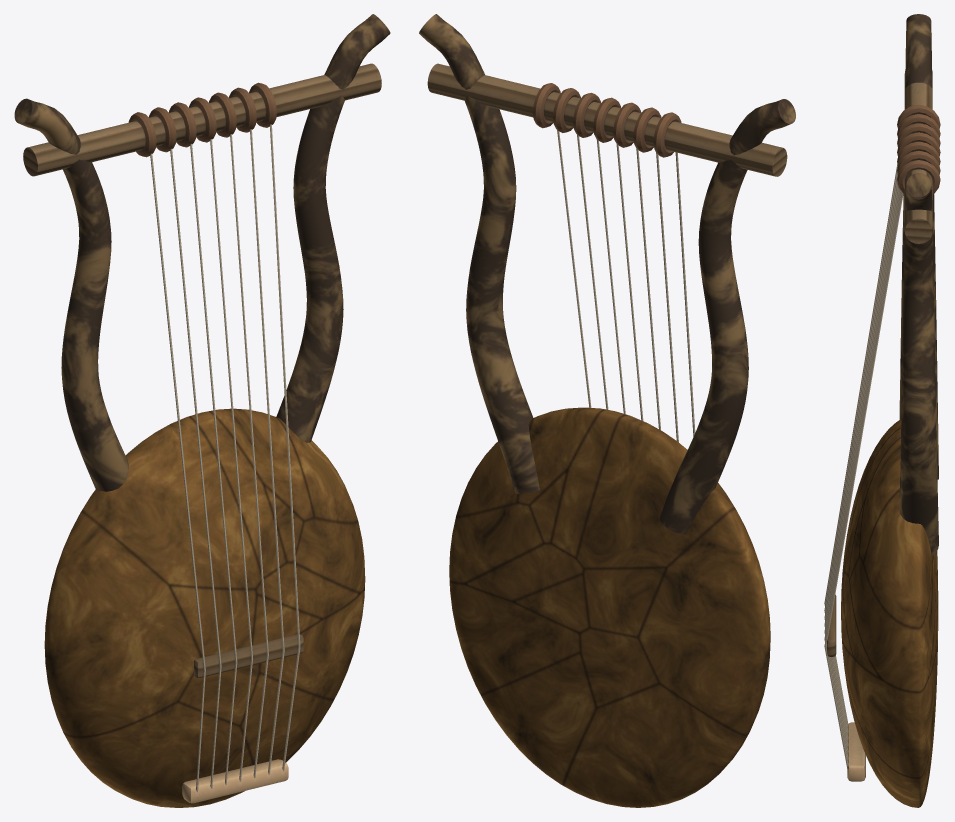
Rendered from chelys_lyre.glb.
The picture shows the model from 3 angles, left to right: view 1: azimuth 30°, elevation 25°; view 2: azimuth 150°, elevation 25°; view 3: azimuth 270°, elevation 25°; orthographic projection. The views are drawn at different scales.
Visible parts, largest first — view 1: chelys_lyre; view 2: chelys_lyre; view 3: chelys_lyre.
Boxes of the visible parts, bbox=[...] form: chelys_lyre: bbox=[14, 14, 390, 807]; chelys_lyre: bbox=[419, 14, 795, 807]; chelys_lyre: bbox=[824, 14, 940, 807].
Size of the model in its own units: 0.2585 by 0.4968 by 0.0747.
1 material, 1 textured.
